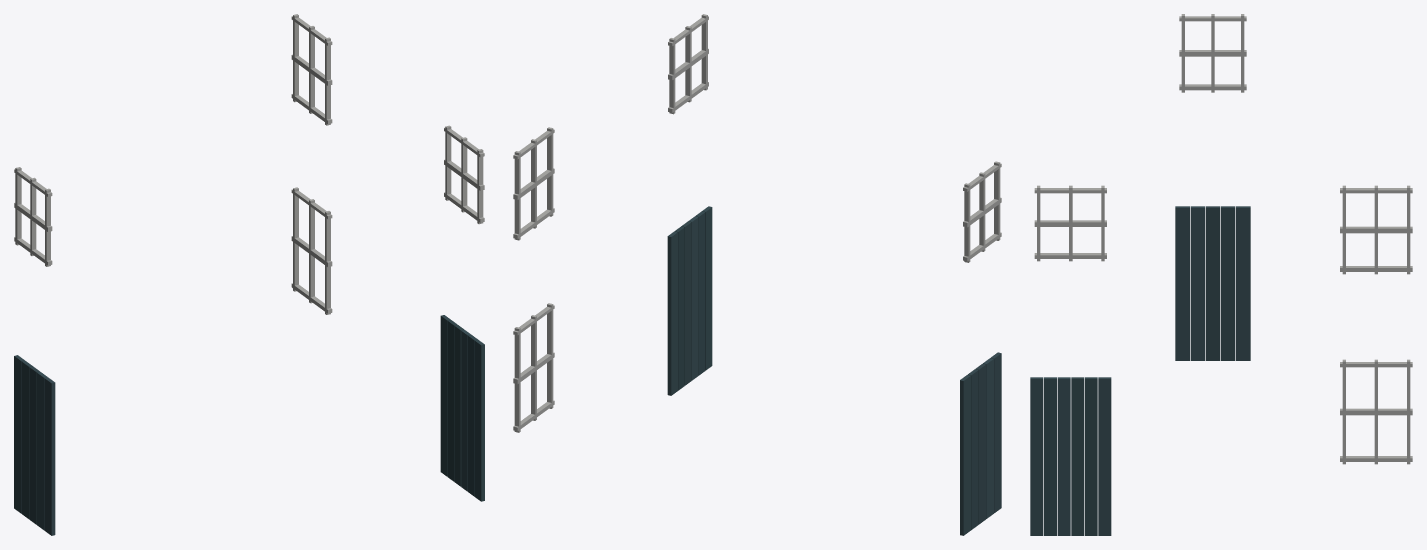
Rendered from SM_Bld_242_Wood.glb.
3 views of the same model, side by side, from view 1: azimuth 30°, elevation 25°; view 2: azimuth 150°, elevation 25°; view 3: azimuth 270°, elevation 25° (orthographic).
Visible parts, largest first — view 1: SM_Bld_242_Wood; view 2: SM_Bld_242_Wood; view 3: SM_Bld_242_Wood.
Part boxes in pixels (x1=…): SM_Bld_242_Wood: x1=14, y1=14, x2=484, y2=535; SM_Bld_242_Wood: x1=513, y1=14, x2=1001, y2=535; SM_Bld_242_Wood: x1=1030, y1=14, x2=1412, y2=535.
Size of the model in its own units: 5 by 4.56 by 4.53.
